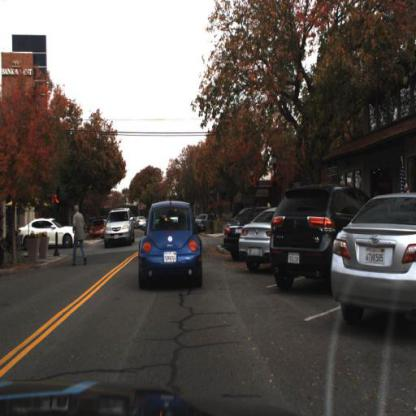car: (329, 192, 416, 332), (271, 185, 373, 294), (136, 199, 207, 295), (223, 202, 272, 262), (241, 205, 281, 271), (19, 213, 85, 251), (102, 207, 136, 249), (90, 214, 110, 239)
pedestrian: (72, 203, 93, 269)
